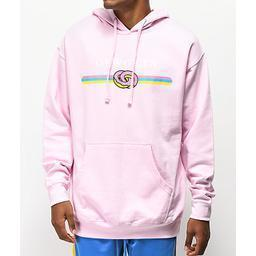sweater: (41, 9, 217, 238)
